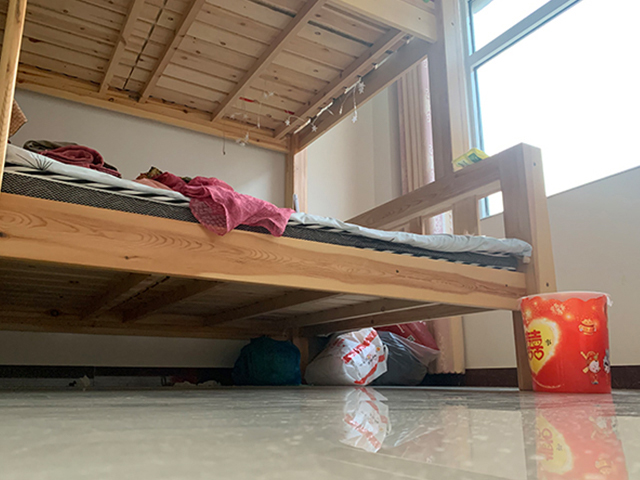bed: (1, 1, 557, 390)
curtain: (395, 58, 466, 375)
trashcan: (517, 290, 613, 396)
